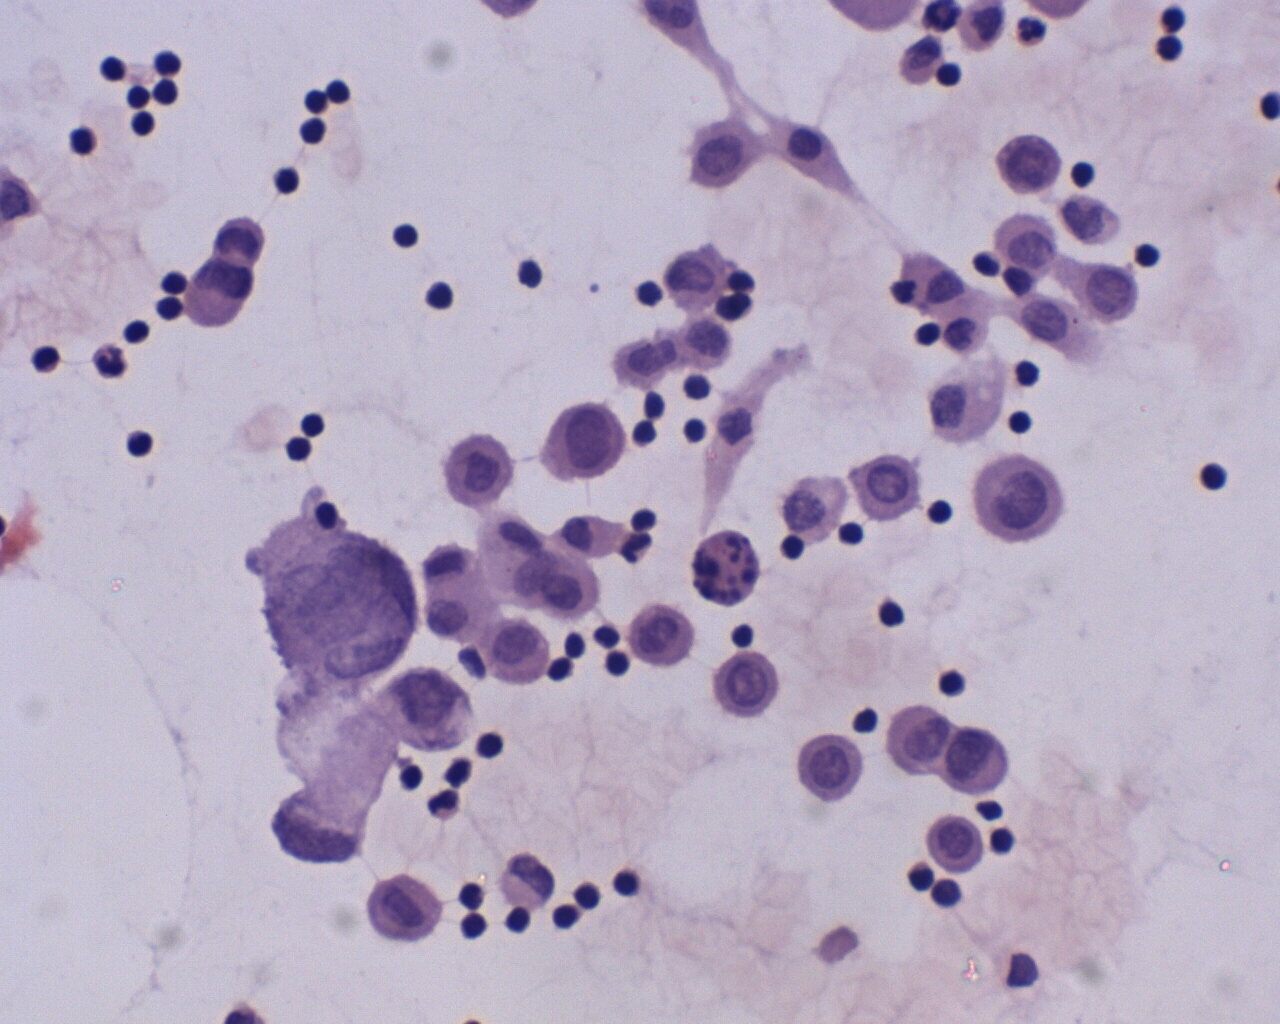ab: (709, 647, 785, 723), (791, 734, 865, 806), (991, 132, 1061, 199), (929, 811, 987, 874)
lymph: (67, 121, 104, 160), (95, 48, 133, 86), (1195, 460, 1238, 492), (421, 278, 458, 315), (267, 163, 304, 199), (284, 430, 317, 469), (472, 727, 506, 763), (124, 422, 157, 458), (1128, 239, 1165, 271), (611, 865, 644, 900), (391, 219, 423, 253), (1156, 32, 1188, 66), (117, 315, 154, 344), (299, 84, 332, 115), (939, 664, 965, 703), (1013, 354, 1044, 387), (682, 370, 712, 403), (879, 599, 905, 627)
meso: (969, 450, 1067, 545), (537, 404, 626, 483), (763, 112, 848, 183), (476, 615, 550, 689)
neutro: (1011, 11, 1054, 50)
